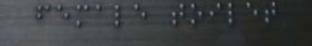Braille: (112, 4, 130, 28), (226, 1, 243, 26), (36, 3, 51, 30), (56, 3, 71, 30), (94, 4, 110, 29), (208, 1, 223, 27), (263, 1, 278, 27), (75, 4, 90, 29), (132, 3, 147, 28), (171, 2, 186, 27), (189, 1, 204, 26), (245, 1, 260, 26)
